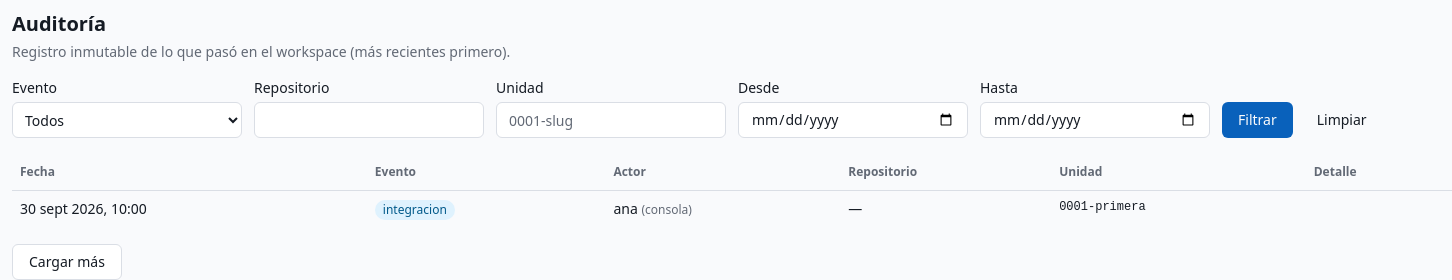
auditoría › «Cargar más» pide la página siguiente con el cursor y desaparece en la última
The image size is (1452, 280).
(page scrolled)
Expected: the text "0001-primera" is shown, [1051,190,1306,228]
Click the button "Cargar más" at x=67, y=262, box [12,244,122,279]
(page scrolled)
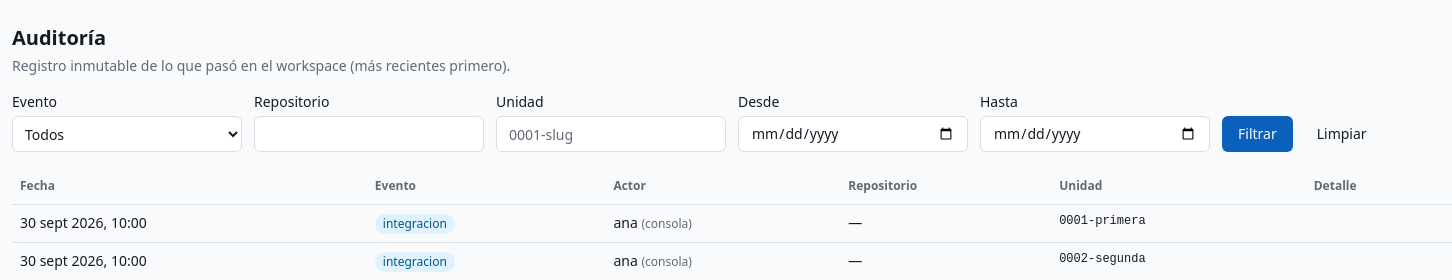
Expected: the text "0001-primera" is shown, [1051,204,1306,242]
Result: the text "0002-segunda" is shown at [1051,242,1306,279]
Result: the button "Cargar más" is gone
